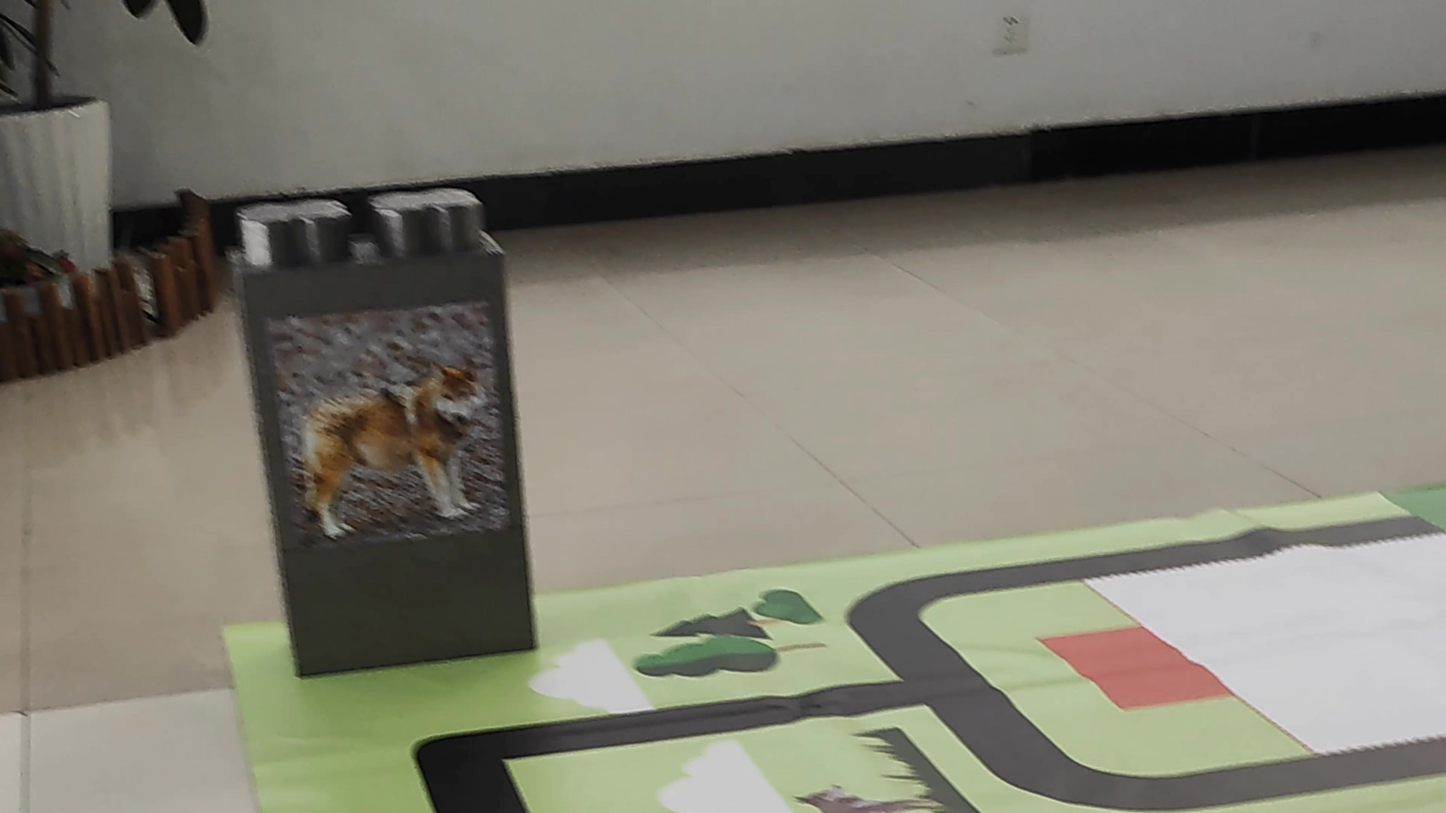wolf: (296, 340, 500, 550)
